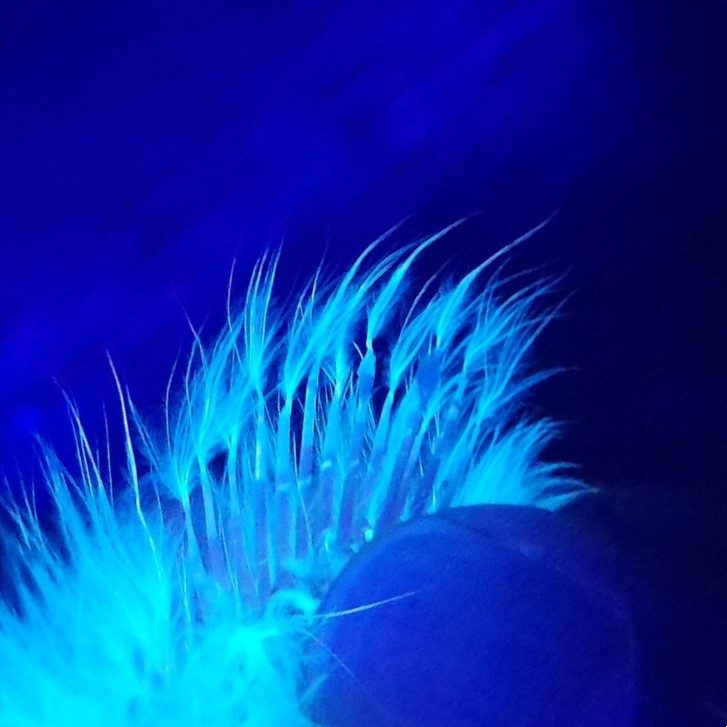male: (150, 331, 490, 593)
